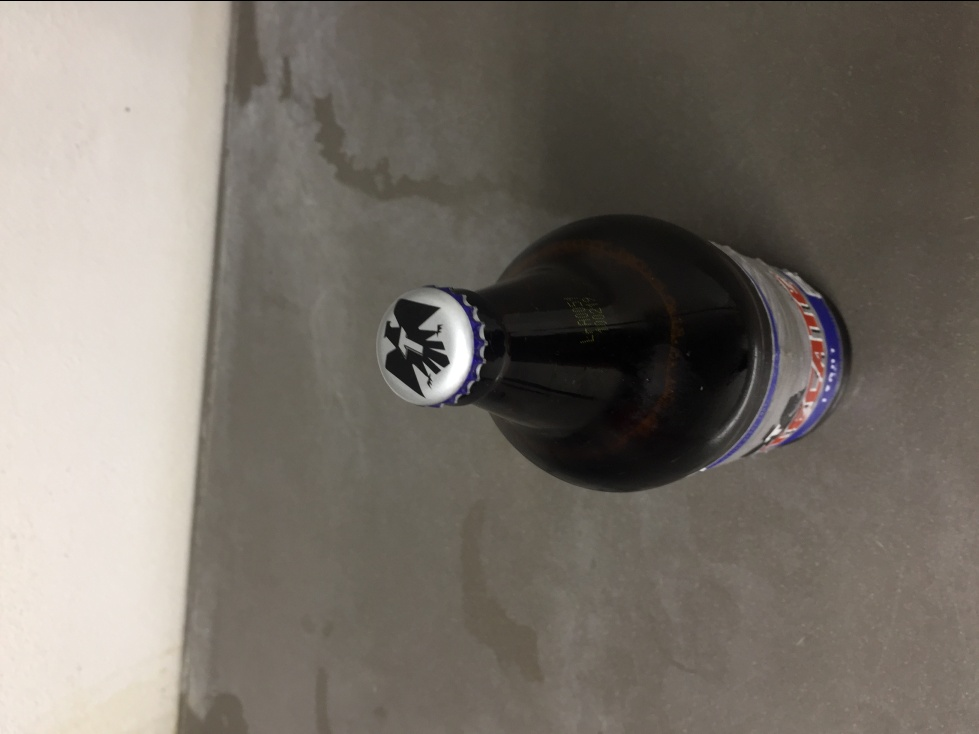tecateC: (373, 213, 851, 495)
